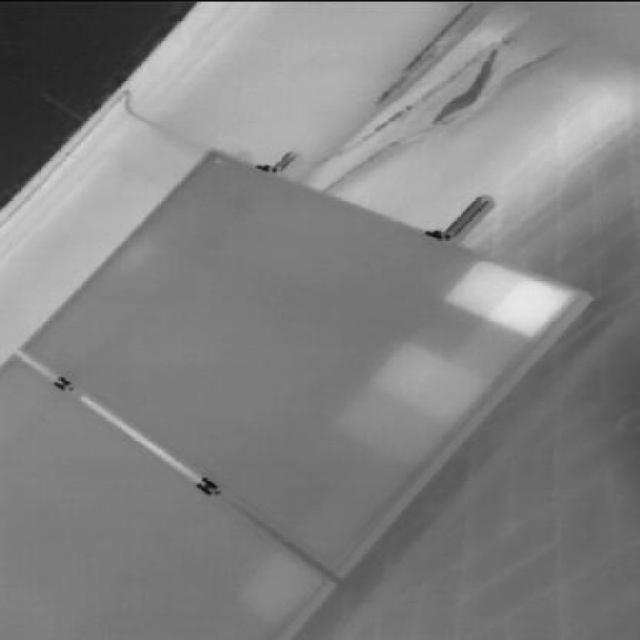hotspot: (368, 336, 484, 430), (442, 259, 576, 339), (335, 383, 442, 466)
